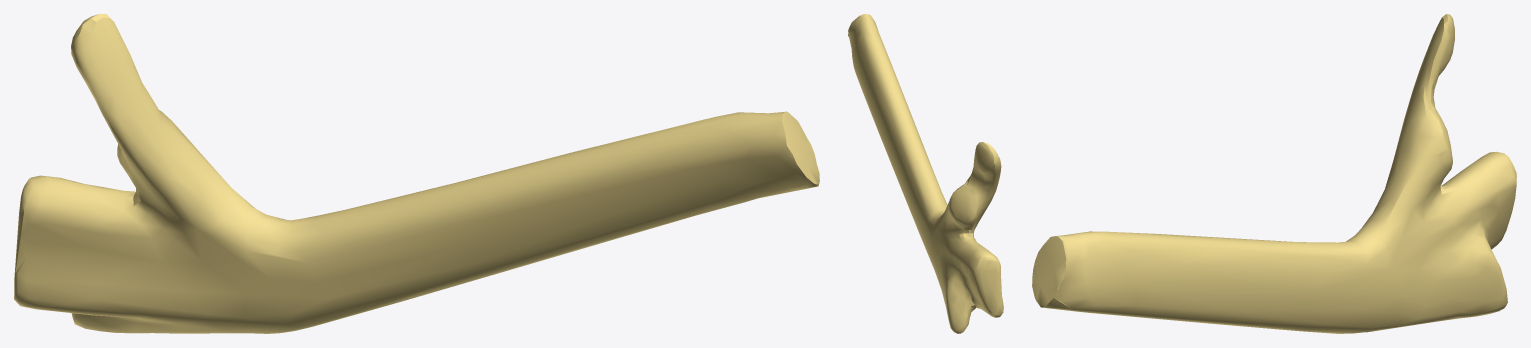
Rendered from fma53409_mm2609.glb.
3 renders of one model, left to right at view 1: azimuth 30°, elevation 25°; view 2: azimuth 150°, elevation 25°; view 3: azimuth 270°, elevation 25°, orthographic. The views are drawn at different scales.
Parts seen in each view (by area): view 1: FMA53409_MM2609; view 2: FMA53409_MM2609; view 3: FMA53409_MM2609.
Boxes of the visible parts, left/top/right/bottom form: FMA53409_MM2609: left=14, top=14, right=819, bottom=333; FMA53409_MM2609: left=848, top=14, right=1003, bottom=333; FMA53409_MM2609: left=1032, top=14, right=1516, bottom=333.
Size of the model in its own units: 0.0137 by 0.00819 by 0.0126.
